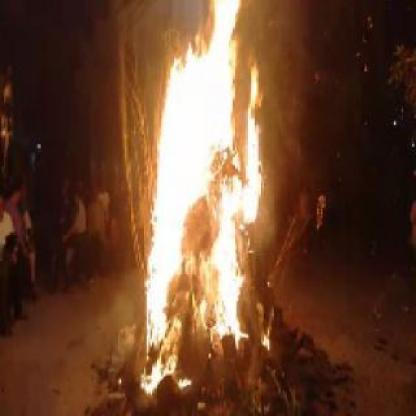Fire: (130, 0, 291, 391)
